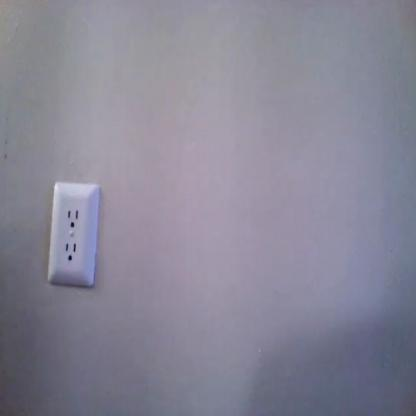OUTLET: (52, 183, 92, 282)
